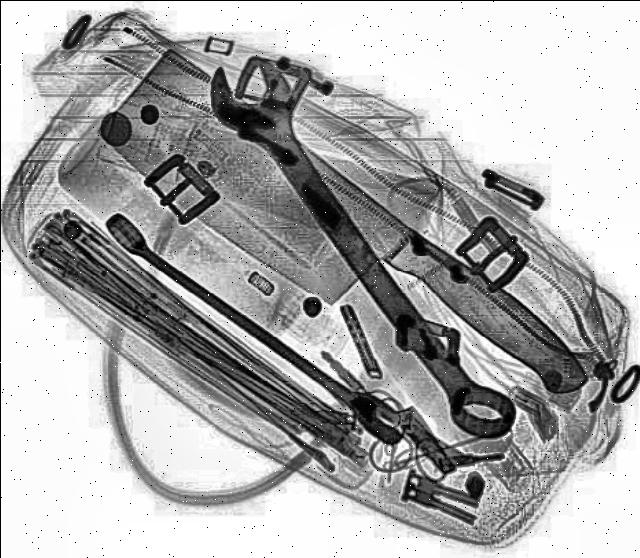Knife: (74, 45, 604, 451)
Wrench: (187, 46, 527, 457)
